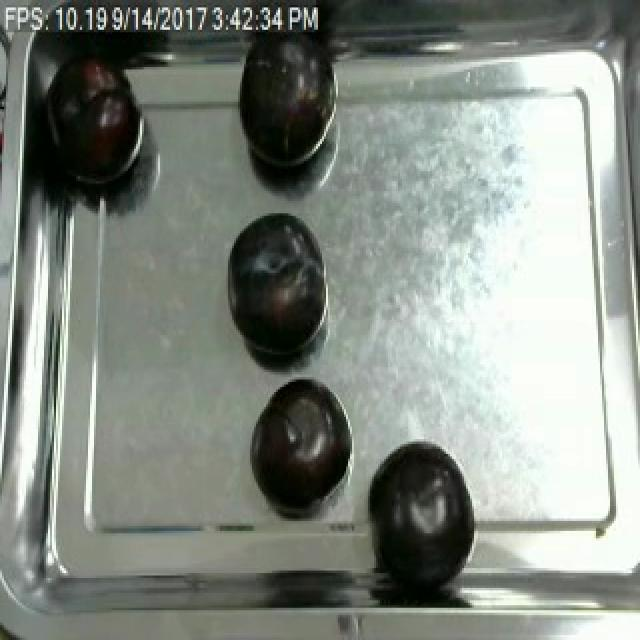Fruit: (220, 203, 326, 364), (228, 32, 342, 179), (364, 436, 478, 580), (46, 50, 150, 191), (246, 377, 340, 509)
